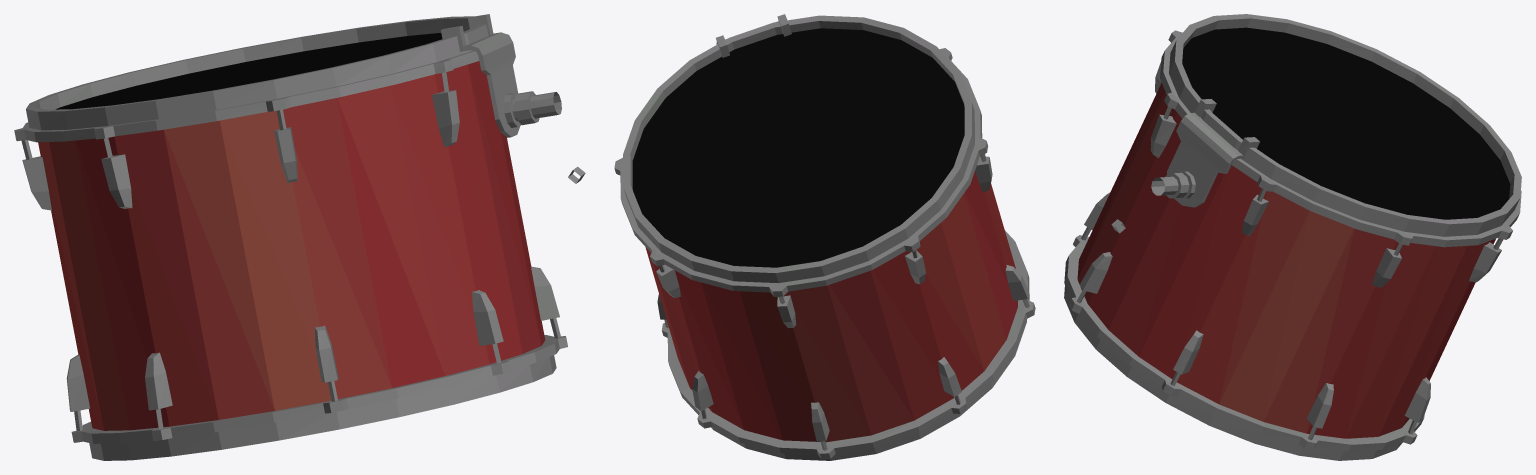
Rendered from drum3-head.fbx.
3 renders of one model, left to right at view 1: azimuth 30°, elevation 25°; view 2: azimuth 150°, elevation 25°; view 3: azimuth 270°, elevation 25°, orthographic. The views are drawn at different scales.
Visible parts, largest first — view 1: polySurface702; view 2: polySurface702; view 3: polySurface702.
Boxes of the visible parts, x1,y1,x2,y2 form: polySurface702: (14,14,585,460); polySurface702: (614,14,1035,460); polySurface702: (1064,14,1521,460).
Size of the model in its own units: 41.7 by 43.55 by 48.8.
